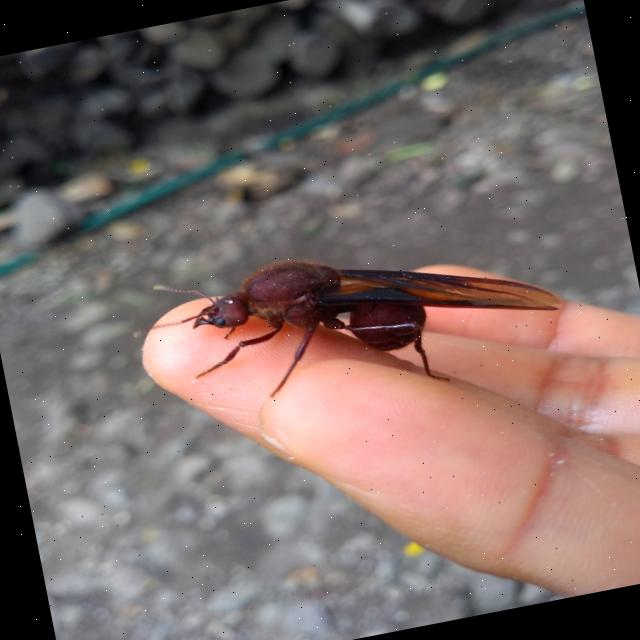Alive-Female-Alate: (123, 209, 572, 442)
